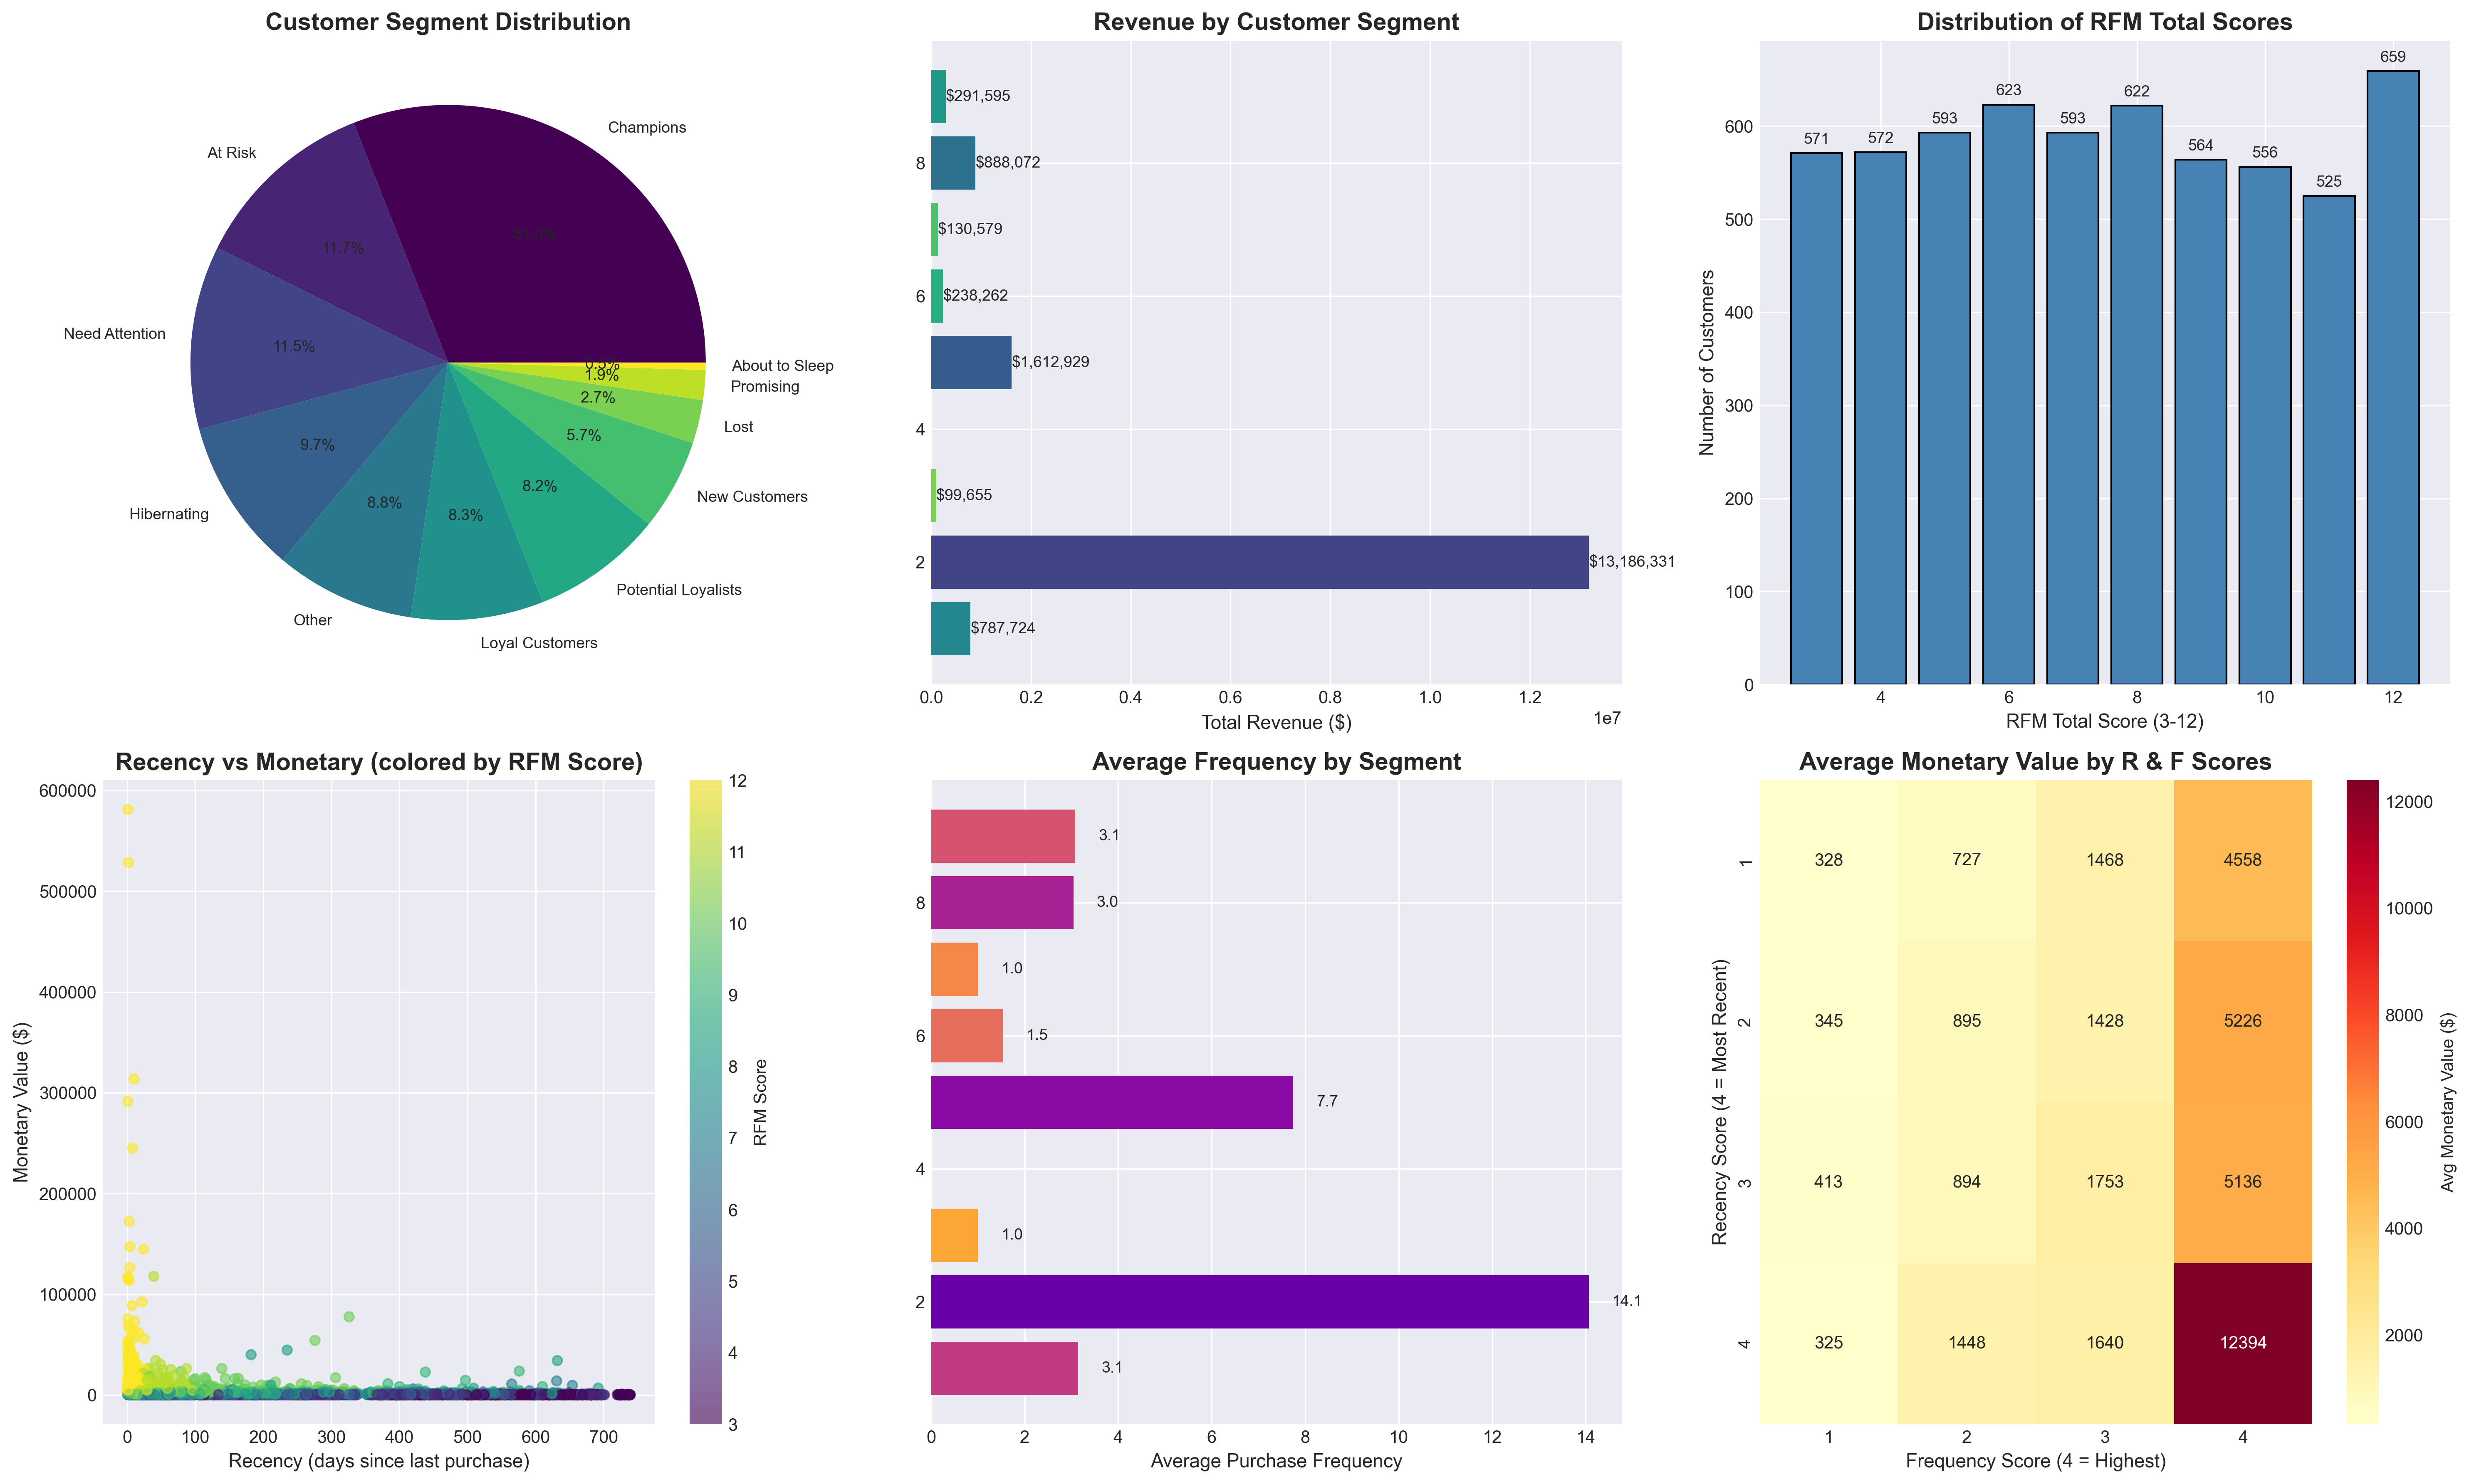

Layout of this report page (visuals, bound fields, positions):
{"tool":"powerbi","page":{"name":"Customer Analytics & RFM","canvas":[1280,720],"ordinal":1},"visuals":[{"type":"textbox","box":[424.5,0,475,68.3],"z":0},{"type":"pivotTable","fields":{"Rows":["dim_customer.r_score"],"Columns":["dim_customer.f_score"],"Values":["Calendar.👥 Customers"]},"box":[890.1,194.6,357.2,164.4],"z":1000},{"type":"scatterChart","title":"Recency Vs Frequency","fields":{"X":["Sum(dim_customer.days_since_last_purchase)"],"Y":["dim_customer.frequency"],"Size":["Sum(dim_customer.monetary)"]},"box":[661.4,181.4,618,243.8],"z":2000},{"type":"clusteredBarChart","title":" Customers distribution by Segment","fields":{"Category":["dim_customer.customer_segment"],"Y":["Calendar.👥 Customers"]},"box":[26.7,438.3,635,266.7],"z":3000},{"type":"treemap","title":"Revenue by Customer Segment","fields":{"Group":["dim_customer.customer_segment"],"Values":["Calendar.💰 Revenue"]},"box":[0,181.4,644.4,257],"z":4000},{"type":"tableEx","fields":{"Values":["Detailed_RFM_Summary.customer_segment","Detailed_RFM_Summary.Customer Count","Detailed_RFM_Summary.% of Customer Base","Detailed_RFM_Summary.Total Segment Value"]},"box":[748.3,425,518.3,280],"z":5000},{"type":"cardVisual","fields":{"Data":["Calendar.Champions","Calendar.At Risk Count","Calendar.Average Recency","Calendar.Average Frequency"]},"box":[26.5,68,1220.8,113.4],"z":6000}]}

Visuals, with their boxes on the page's 1280x720 design canvas (x1, y1, x2, y2). These are canvas units, not pixel positions in the 2469x1484 screenshot, which may show the page scaled, cropped or inside an application window:
textbox: 424:0:900:68
pivotTable - dim_customer.r_score x dim_customer.f_score: 890:195:1247:359
"Recency Vs Frequency" scatterChart: 661:181:1279:425
" Customers distribution by Segment" clusteredBarChart: 27:438:662:705
"Revenue by Customer Segment" treemap: 0:181:644:438
tableEx - Detailed_RFM_Summary.customer_segment x Detailed_RFM_Summary.Customer Count: 748:425:1267:705
cardVisual - Calendar.Champions x Calendar.At Risk Count: 26:68:1247:181
